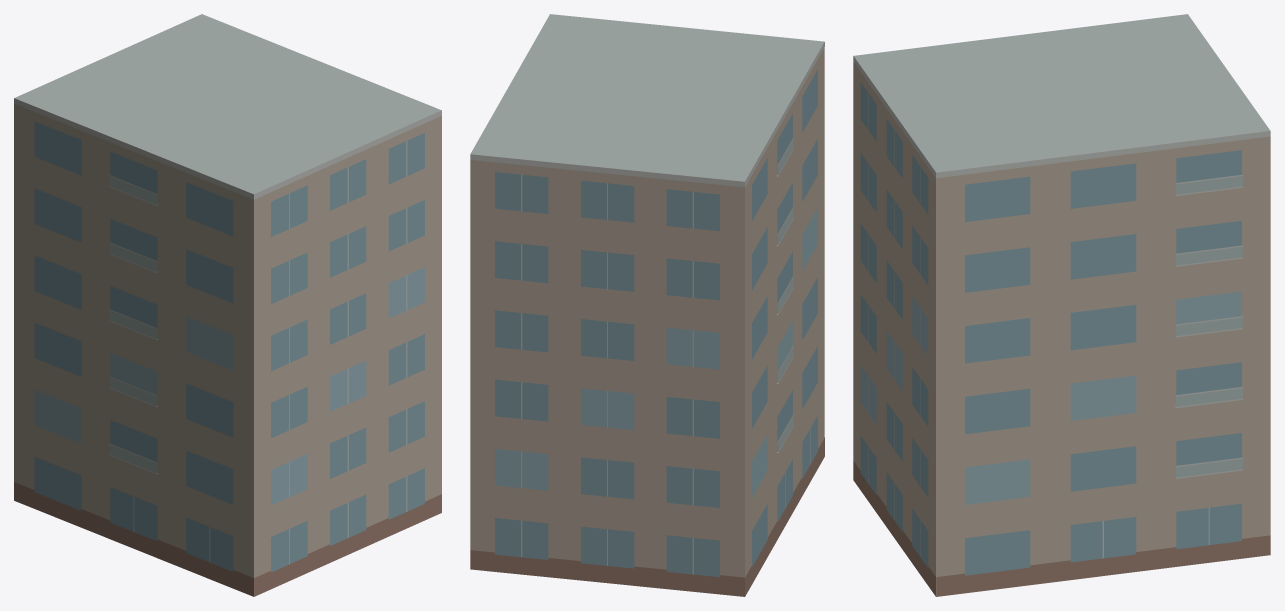
Rendered from survey-upis-32585869.glb.
3 renders of one model, left to right at view 1: azimuth 30°, elevation 25°; view 2: azimuth 150°, elevation 25°; view 3: azimuth 270°, elevation 25°, orthographic. The views are drawn at different scales.
Visible parts, largest first — view 1: survey-upis-32585869.tmp; view 2: survey-upis-32585869.tmp; view 3: survey-upis-32585869.tmp.
Boxes of the visible parts, box(x1,y1,x2,y2) form: survey-upis-32585869.tmp: box(14, 14, 441, 596); survey-upis-32585869.tmp: box(470, 14, 824, 596); survey-upis-32585869.tmp: box(853, 14, 1270, 596).
Size of the model in its own units: 14.68 by 18.3 by 16.32.
